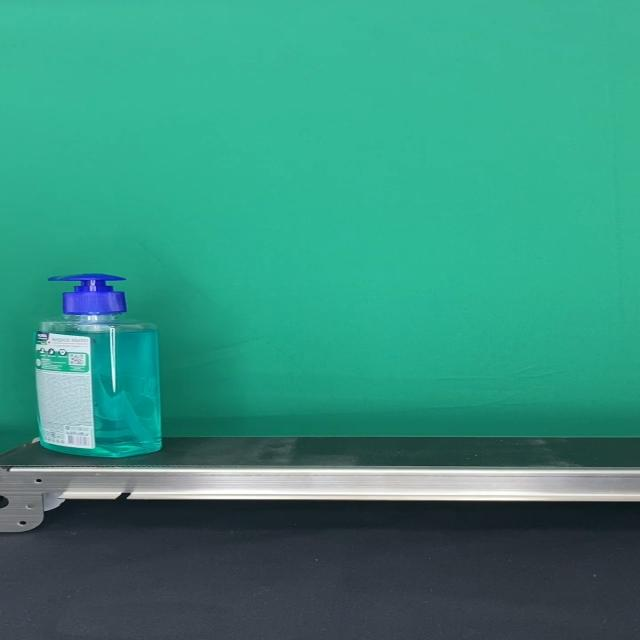Bottle: (33, 273, 164, 458)
Cap: (47, 273, 129, 315)
